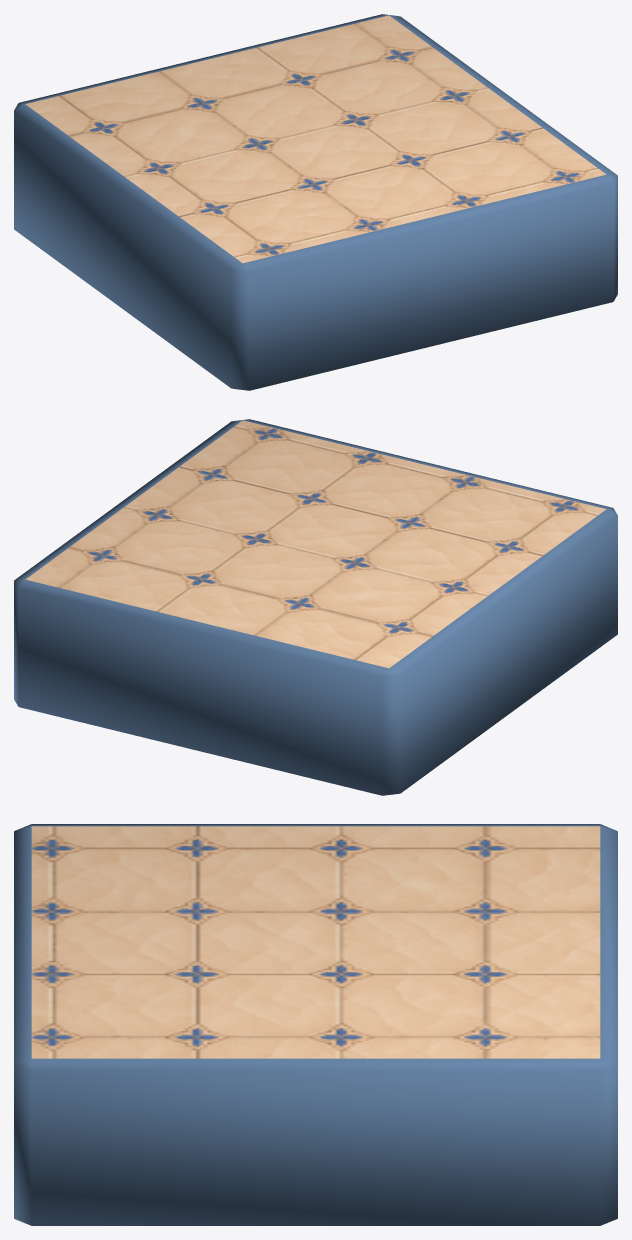
The model's file is Stone_Block.fbx.
3 views of the same model, one above another, from view 1: azimuth 30°, elevation 25°; view 2: azimuth 150°, elevation 25°; view 3: azimuth 270°, elevation 25° (orthographic). The views are drawn at different scales.
Visible parts, largest first — view 1: Stone_Block; view 2: Stone_Block; view 3: Stone_Block.
Part boxes in pixels (x1,y1,x2,y2): Stone_Block: (14,14,617,390); Stone_Block: (14,419,617,795); Stone_Block: (14,824,617,1225).
Size of the model in its own units: 0.3413 by 0.1065 by 0.3533.
1 material, 1 textured.
